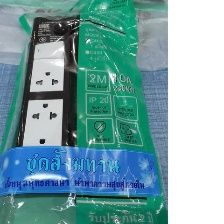three_eye_plug: (8, 12, 87, 199)
